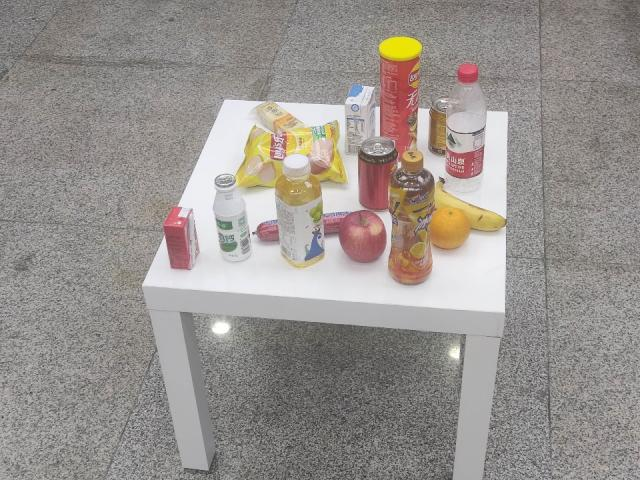Canned_drinks: (357, 137, 397, 212), (427, 94, 459, 156)
bottle: (438, 59, 492, 182)
cylinder: (378, 30, 423, 161)
drink_box: (159, 200, 207, 276), (338, 80, 379, 156)
